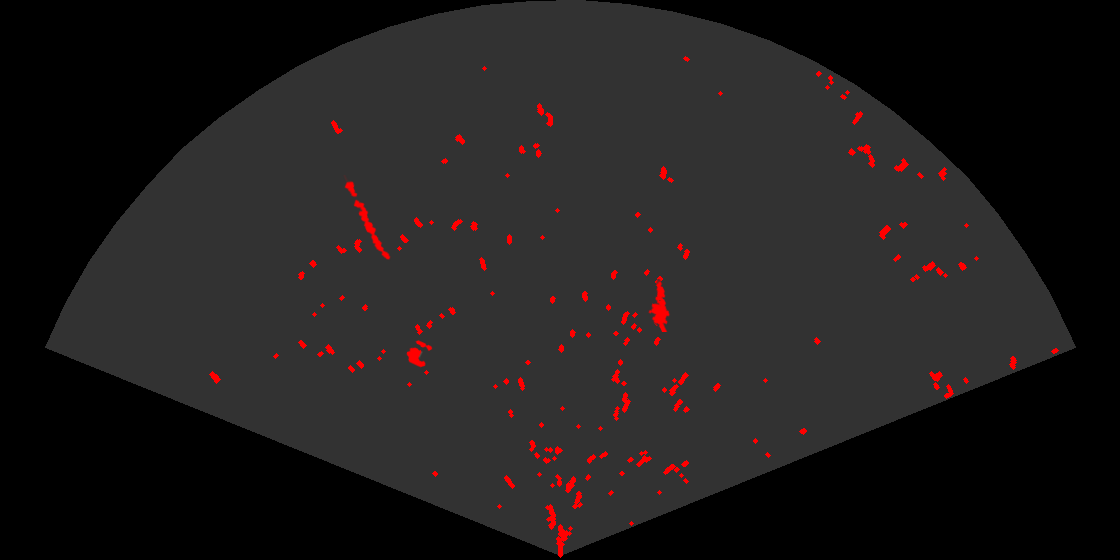ball: (405, 339, 434, 369)
chain: (342, 175, 392, 261)
frogman: (647, 279, 672, 332)
